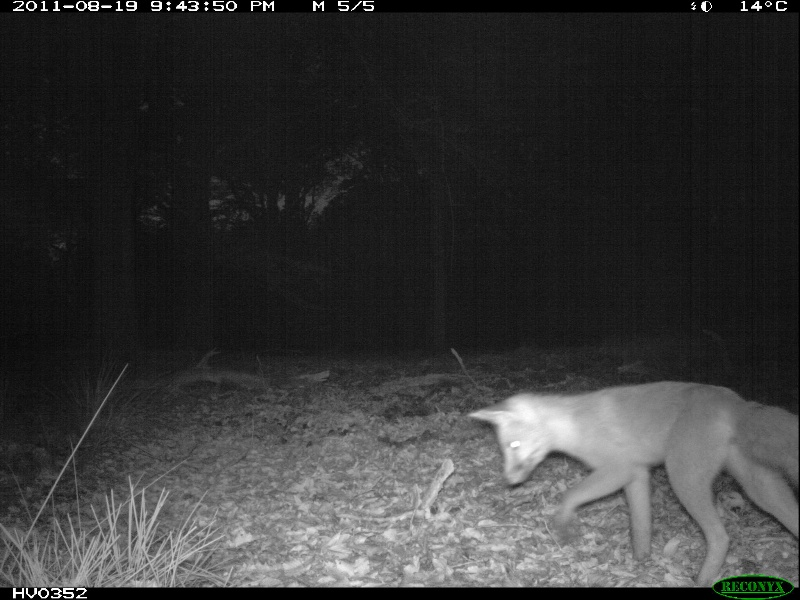fox: (462, 376, 800, 582)
